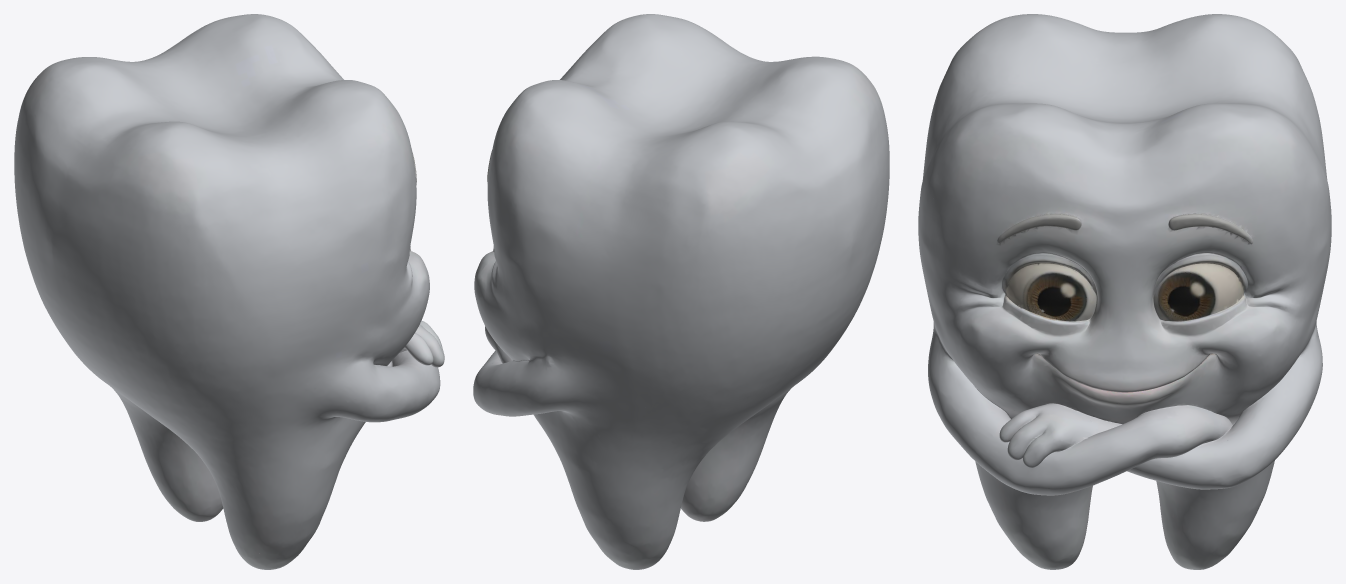
The model's file is glbData_1780601435068_tdk9t.glb.
The picture shows the model from 3 angles, left to right: view 1: azimuth 30°, elevation 25°; view 2: azimuth 150°, elevation 25°; view 3: azimuth 270°, elevation 25°; orthographic projection. The views are drawn at different scales.
Visible parts, largest first — view 1: tripo_node_ffb7de1b-759e-414b-a470-21cd64853449; view 2: tripo_node_ffb7de1b-759e-414b-a470-21cd64853449; view 3: tripo_node_ffb7de1b-759e-414b-a470-21cd64853449.
Part boxes in pixels (x1,y1,x2,y2): tripo_node_ffb7de1b-759e-414b-a470-21cd64853449: (14, 14, 444, 569); tripo_node_ffb7de1b-759e-414b-a470-21cd64853449: (473, 14, 889, 569); tripo_node_ffb7de1b-759e-414b-a470-21cd64853449: (918, 14, 1331, 569).
Bounding box in the file's own units: 0.0787 × 0.1 × 0.0757.
1 material, 1 textured.
